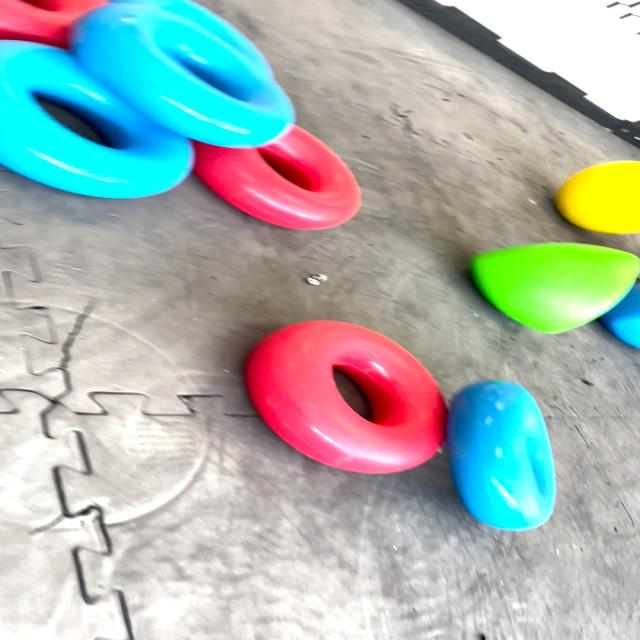Blue-Ring: (73, 0, 296, 148), (0, 40, 193, 198), (447, 381, 556, 530)
Red-Ring: (247, 321, 447, 474), (193, 125, 360, 230), (0, 0, 109, 49)
